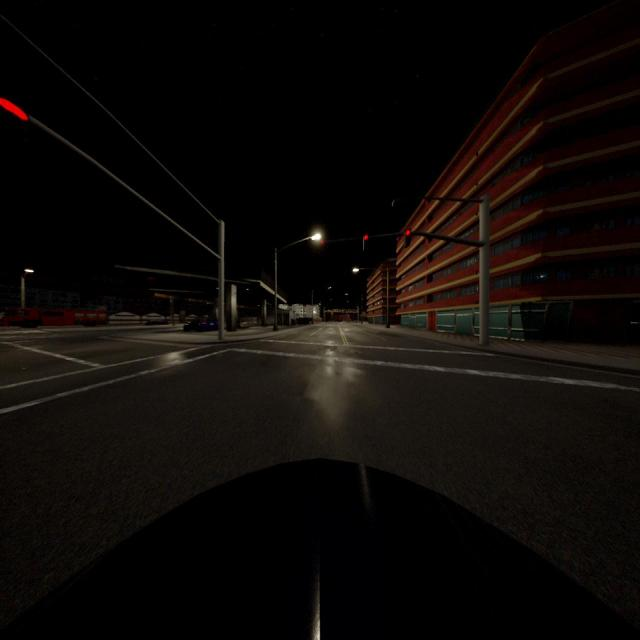Vehicle: (0, 460, 640, 638), (4, 309, 39, 327), (38, 309, 72, 326), (72, 310, 106, 326), (184, 319, 218, 332), (146, 320, 168, 324), (336, 315, 348, 322)
traffic_light: (0, 97, 29, 122), (405, 229, 410, 246), (364, 235, 368, 250), (321, 240, 324, 244)
